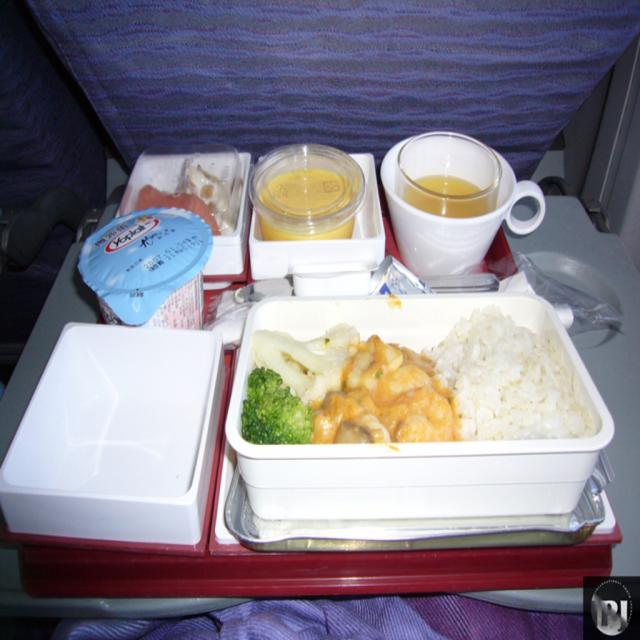Tea: (404, 173, 490, 219)
